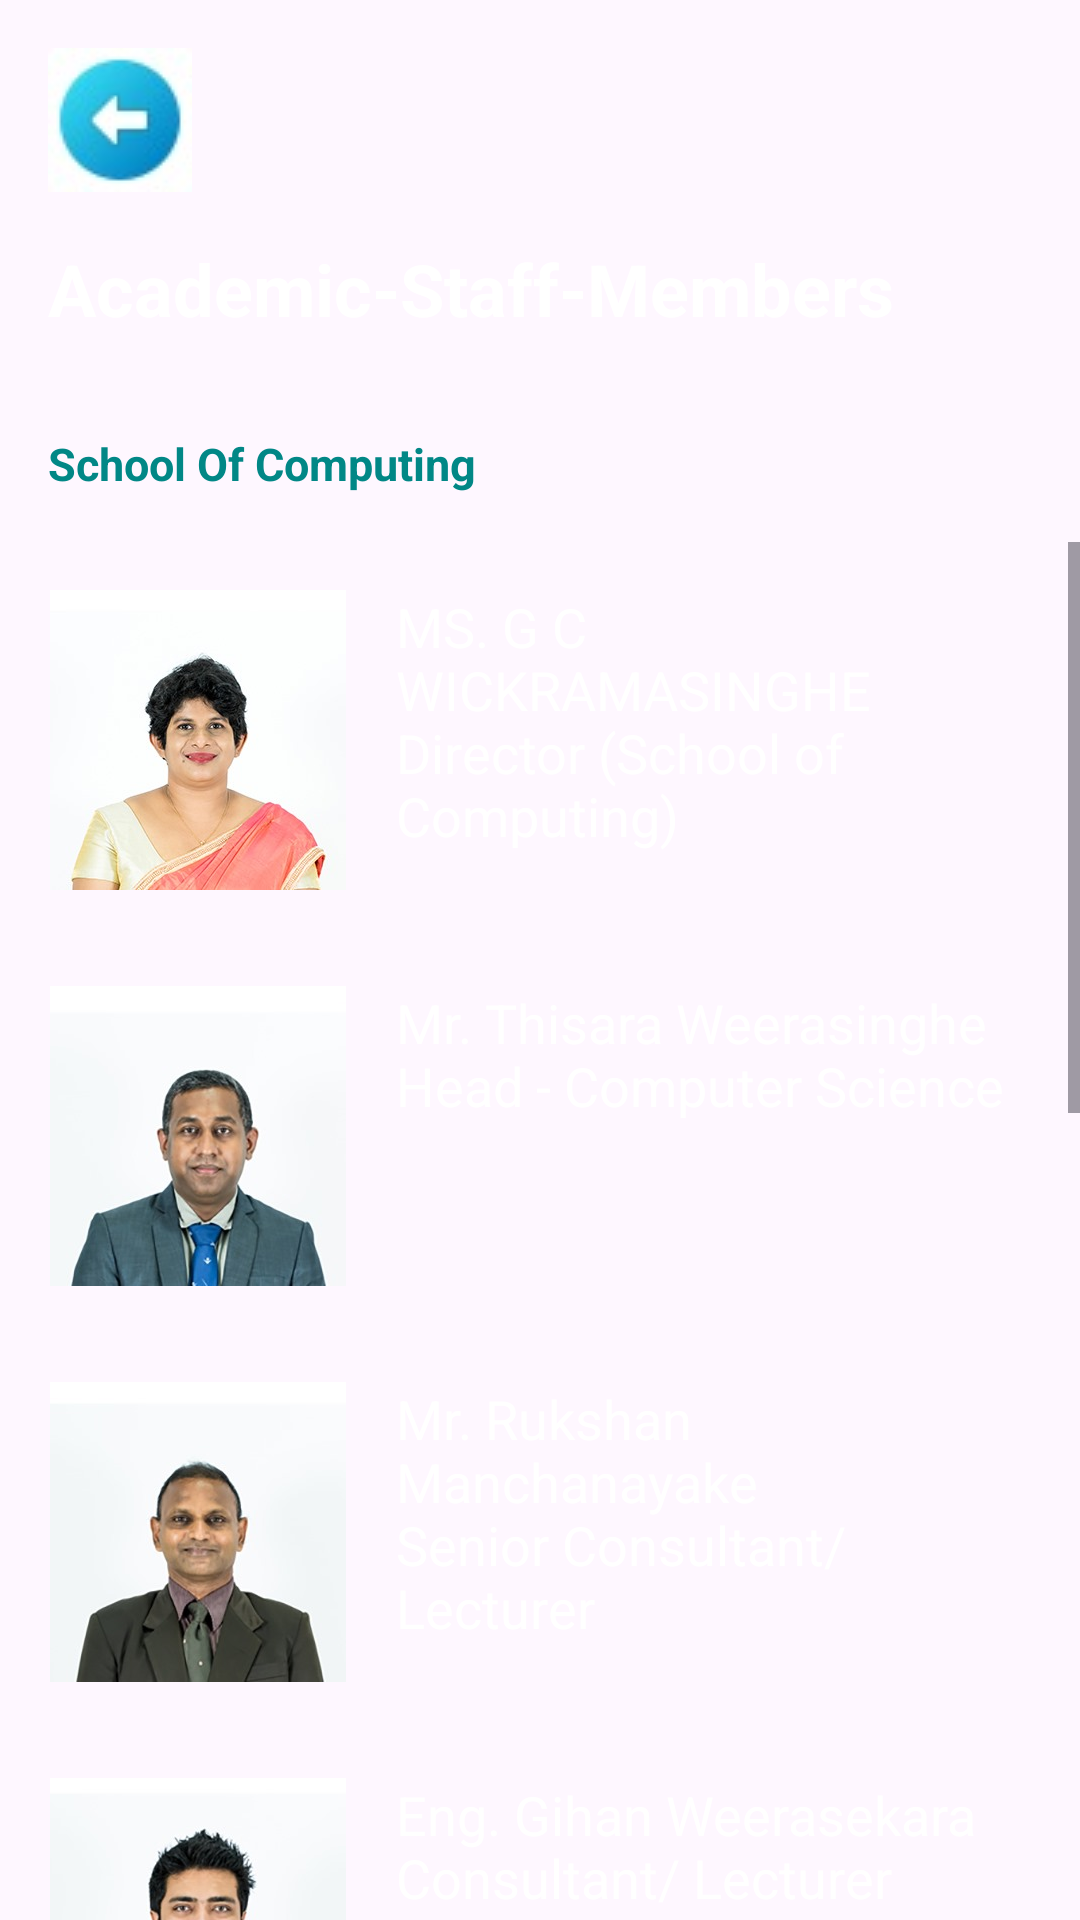

Icon click points for this 1080w x 1920h phone screenshot, format (x,y):
back: (120,120)
